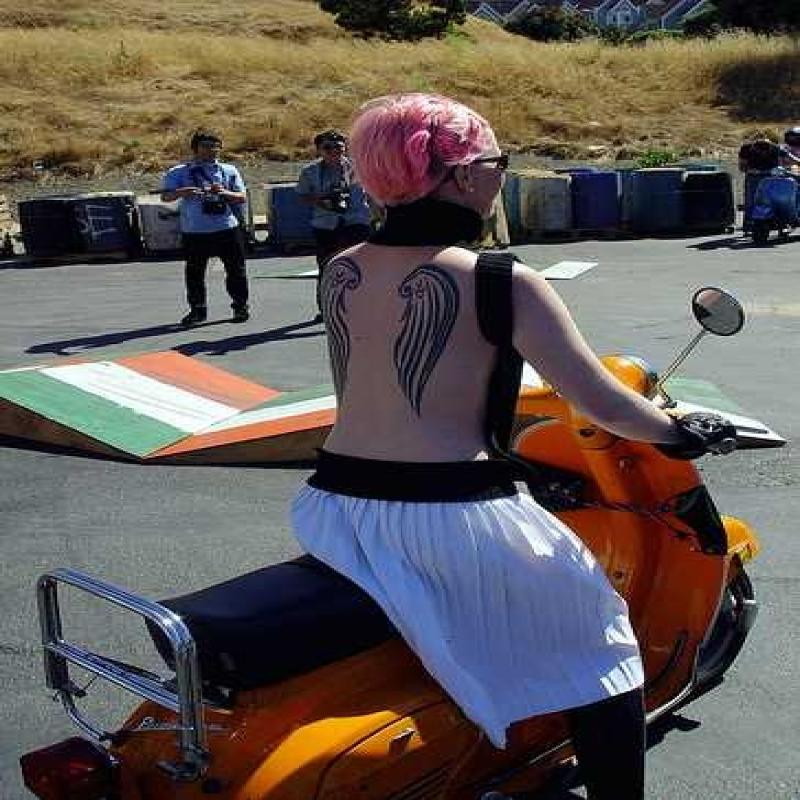bike: (179, 320, 753, 800)
